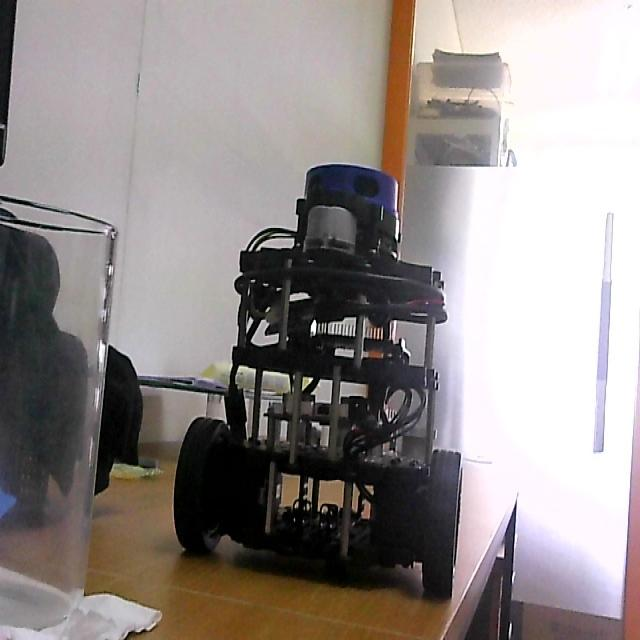turtle: (172, 158, 466, 604)
